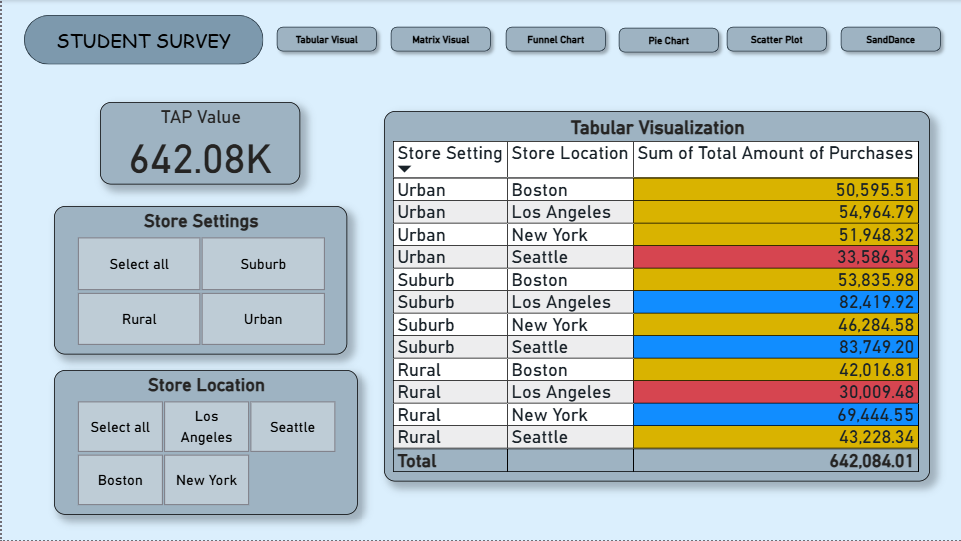

What the dashboard file says about the page in this screenshot:
{"tool":"powerbi","page":{"name":"Tabular Visualization","canvas":[1280,720],"ordinal":0},"visuals":[{"type":"tableEx","title":"Tabular Visualization","fields":{"Values":["Student Survey.Store Setting","Student Survey.Store Location","Sum(Student Survey.Total Amount of Purchases)"]},"box":[509.2,148.6,728.1,494.1],"z":0},{"type":"shape","box":[813.3,28.2,151.4,50.9],"z":1000,"group":"g2"},{"type":"slicer","title":"Store Settings","fields":{"Values":["Student Survey.Store Setting"]},"box":[68.8,275.3,390.9,198.2],"z":1000},{"type":"slicer","title":"Store Location","fields":{"Values":["Student Survey.Store Location"]},"box":[68.8,492.7,404.6,192.7],"z":2000},{"type":"group","id":"g1","title":"Group 2","box":[357.8,27.3,902.9,51.8],"z":3000},{"type":"card","title":"TAP Value","fields":{"Values":["Sum(Student Survey.Total Amount of Purchases)"]},"box":[130.8,136.3,267,110.1],"z":4000},{"type":"shape","box":[28.9,20.6,319.3,66.1],"z":5000},{"type":"shape","box":[357.8,27.5,151.4,50.9],"z":5000,"group":"g1"},{"type":"shape","box":[957.9,27.5,151.4,50.9],"z":6000,"group":"g1"},{"type":"shape","box":[1109.3,27.5,151.4,50.9],"z":7000,"group":"g1"},{"type":"shape","box":[509.2,27.5,151.4,50.9],"z":8000,"group":"g1"},{"type":"shape","box":[663.6,27.3,151.4,50.9],"z":9000,"group":"g1"},{"type":"group","id":"g2","title":"Group 1","box":[813.3,28.2,151.4,50.9],"z":10000,"group":"g1"}]}

Visuals, with their boxes in screenshot pixels (x1, y1, x2, y2), scaled from the page's 1280x720 canvas onto the 961x541 screenshot:
"Tabular Visualization" tableEx: pyautogui.locateOnScreen(382, 112, 929, 483)
shape: pyautogui.locateOnScreen(611, 21, 724, 59)
"Store Settings" slicer: pyautogui.locateOnScreen(52, 207, 345, 356)
"Store Location" slicer: pyautogui.locateOnScreen(52, 370, 355, 515)
"Group 2" group: pyautogui.locateOnScreen(269, 21, 947, 59)
"TAP Value" card: pyautogui.locateOnScreen(98, 102, 299, 185)
shape: pyautogui.locateOnScreen(22, 15, 261, 65)
shape: pyautogui.locateOnScreen(269, 21, 382, 59)
shape: pyautogui.locateOnScreen(719, 21, 833, 59)
shape: pyautogui.locateOnScreen(833, 21, 947, 59)
shape: pyautogui.locateOnScreen(382, 21, 496, 59)
shape: pyautogui.locateOnScreen(498, 21, 612, 59)
"Group 1" group: pyautogui.locateOnScreen(611, 21, 724, 59)
